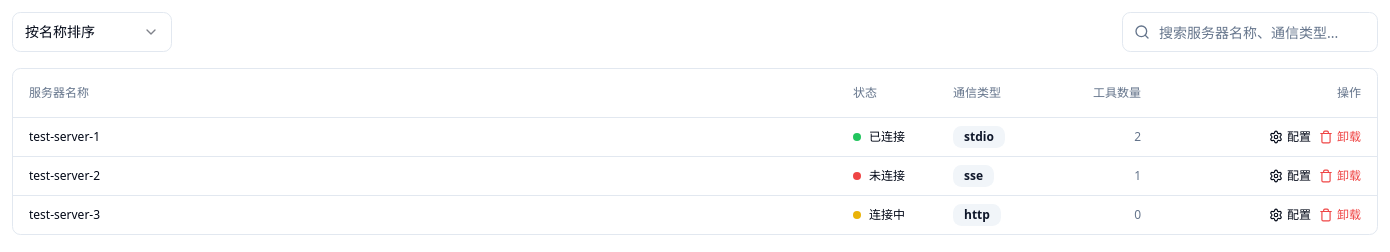
it: McpServerTable › 搜索功能 › 输入搜索关键词应该过滤服务器列表
The image size is (1390, 252).
Type "server-1" into the field with placeholder "搜索服务器名称、通信类型..." at (1250, 32), box [1122, 12, 1378, 52]
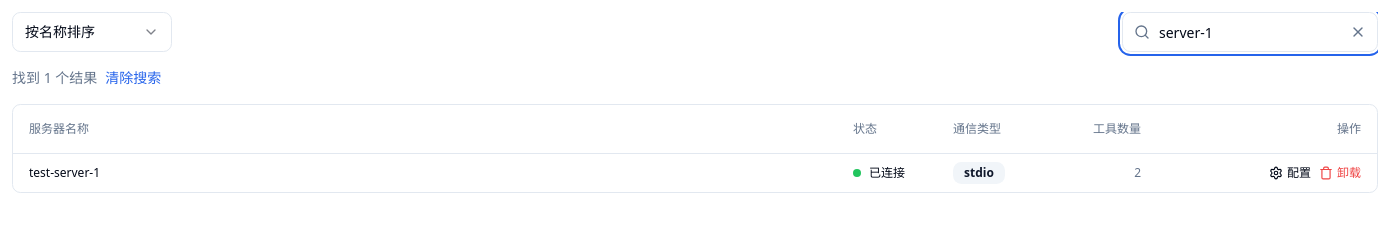
Expected: the text "test-server-1" is shown, [13, 154, 837, 192]
Expected: the text "找到 1 个结果 清除搜索" is shown, [12, 68, 161, 88]
Expected: the text "test-server-2" is gone
